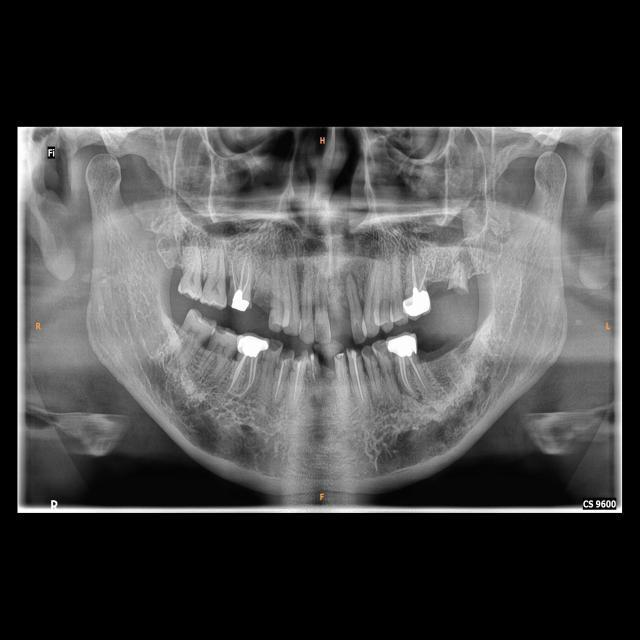dentin-curugu: (269, 338, 285, 354), (278, 352, 297, 364)
dolgu: (228, 286, 253, 314)
kanal-tedavisi: (230, 354, 259, 400), (399, 356, 427, 392), (229, 253, 253, 293), (406, 254, 429, 289), (352, 358, 366, 400), (274, 364, 287, 396), (293, 361, 303, 395), (310, 360, 318, 381)
kaplama: (237, 331, 269, 358), (385, 334, 419, 358), (404, 289, 430, 316)
